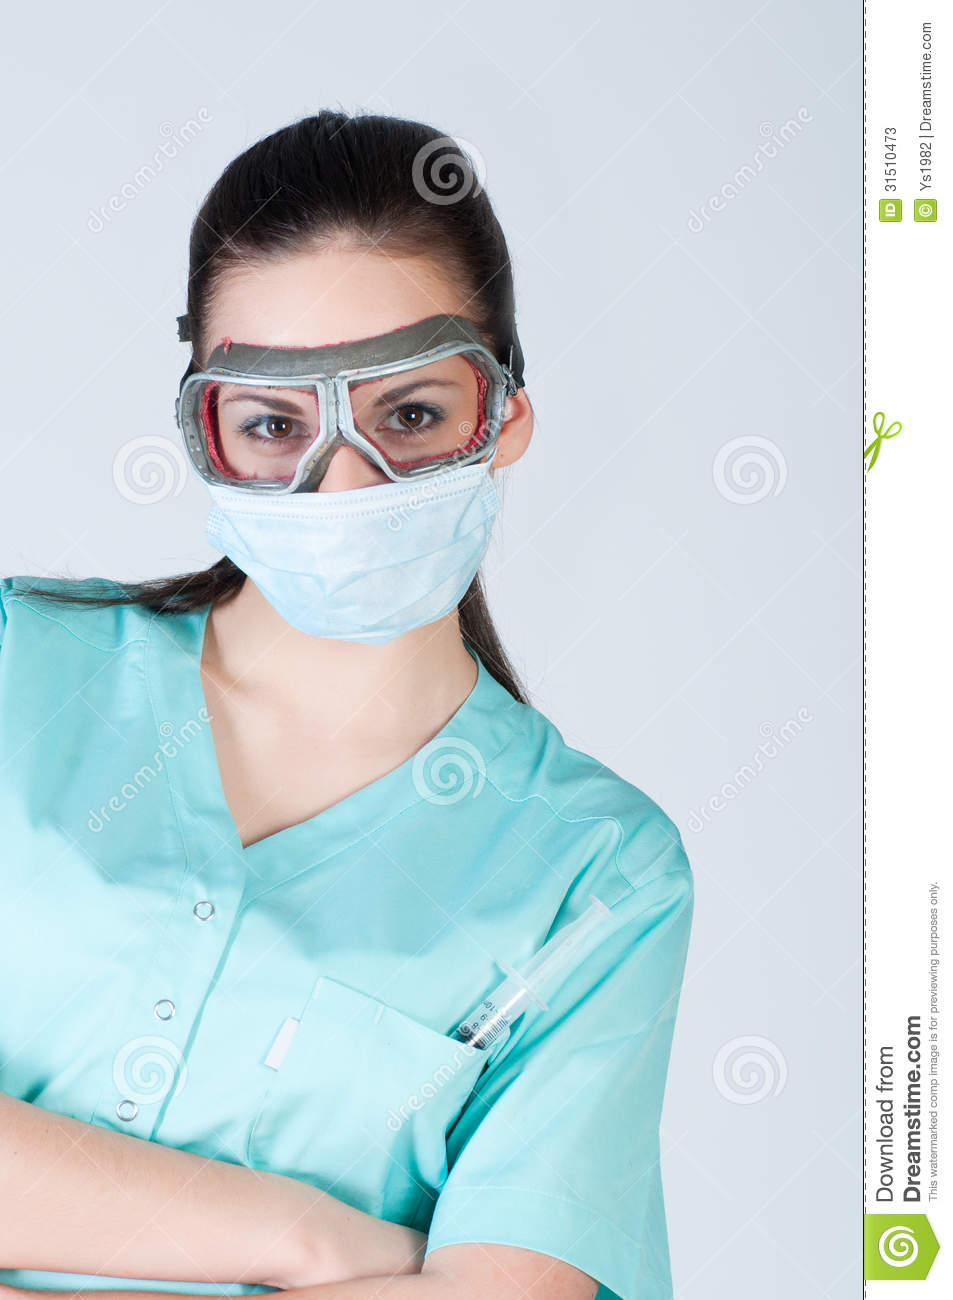mask: (211, 477, 498, 640)
